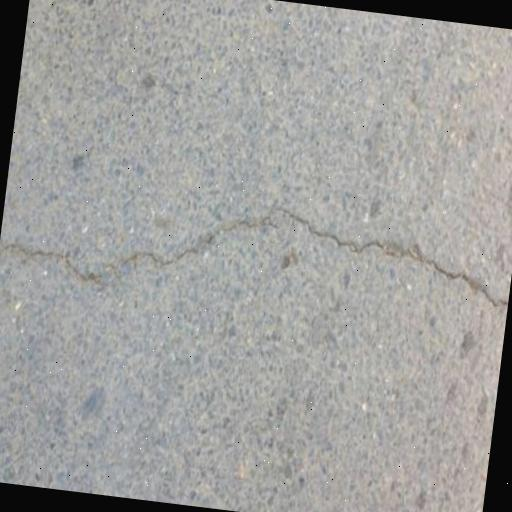spalling: (4, 178, 503, 321)
